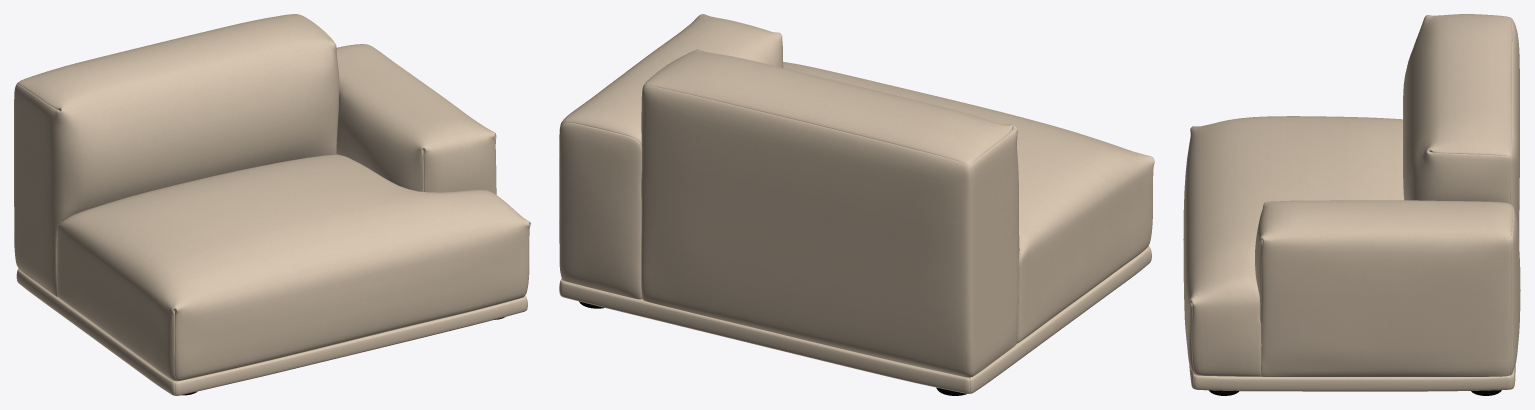
File: DIVINA 106.glb
The picture shows the model from 3 angles, left to right: view 1: azimuth 30°, elevation 25°; view 2: azimuth 150°, elevation 25°; view 3: azimuth 270°, elevation 25°; orthographic projection. The views are drawn at different scales.
Parts seen in each view (by area): view 1: Upholstery; view 2: Upholstery; view 3: Upholstery.
Boxes of the visible parts, x1,y1,x2,y2 form: Upholstery: (14,14,530,395); Upholstery: (559,14,1154,393); Upholstery: (1183,14,1520,391).
Size of the model in its own units: 1.2 by 0.697 by 0.9539.
Materials: 2 (2 with a texture image).
